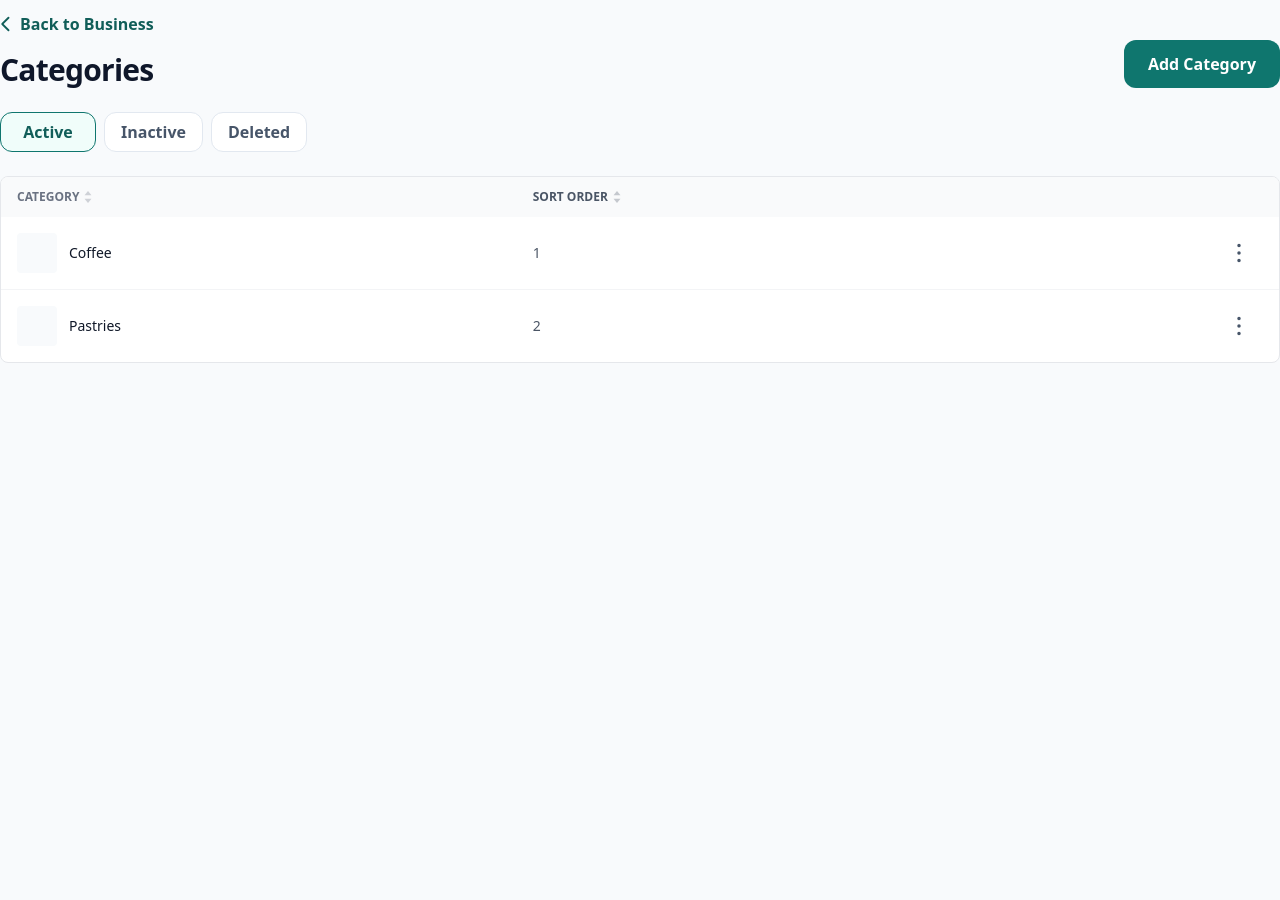
Test: CategoriesPage › will not submit a blank name
Check: the text "Coffee" is shown, box [69, 243, 112, 263]
Click the button "Add Category". click: (1202, 64)
box: [1124, 40, 1279, 88]
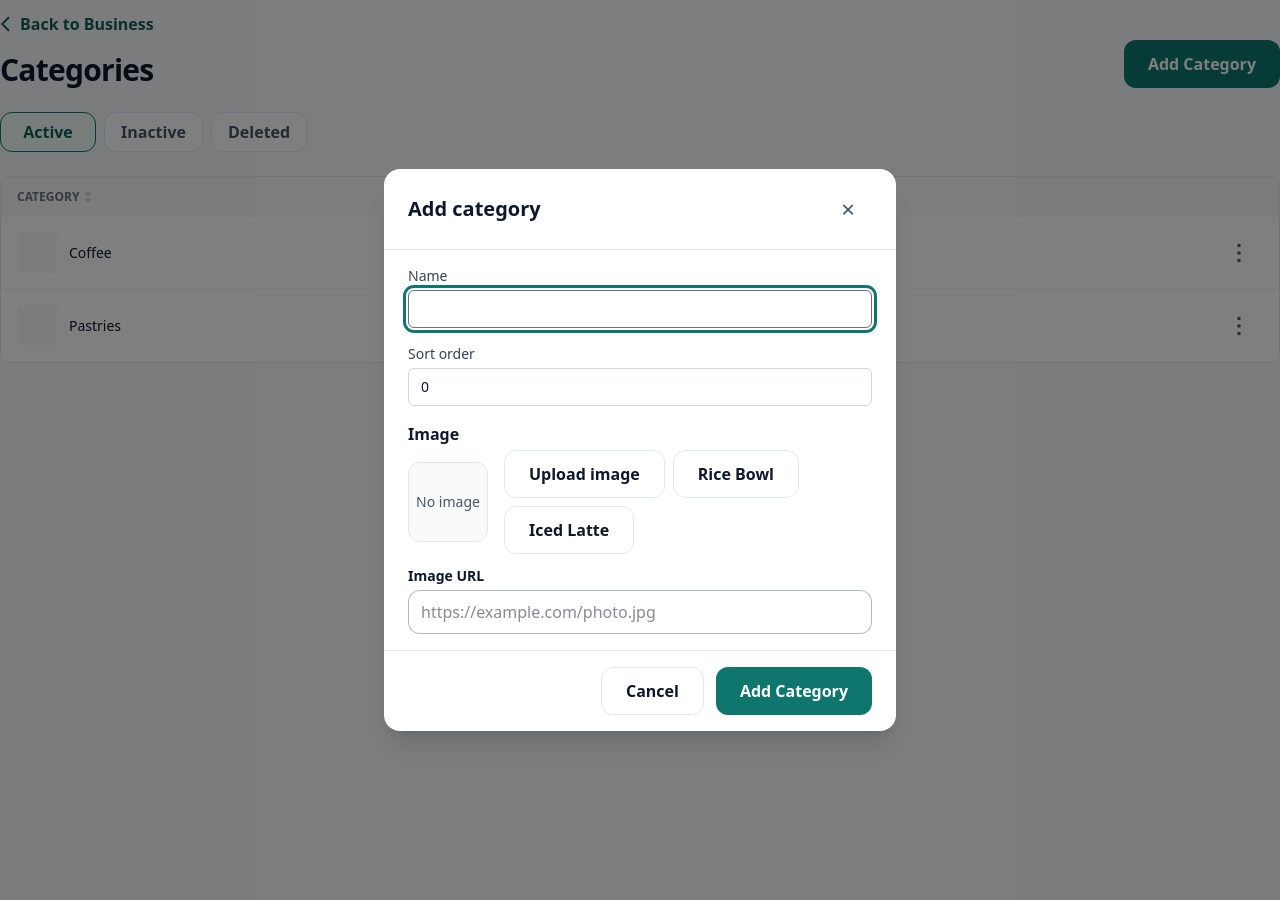
Click the button "Add Category". click: (794, 691)
box: [716, 667, 872, 715]
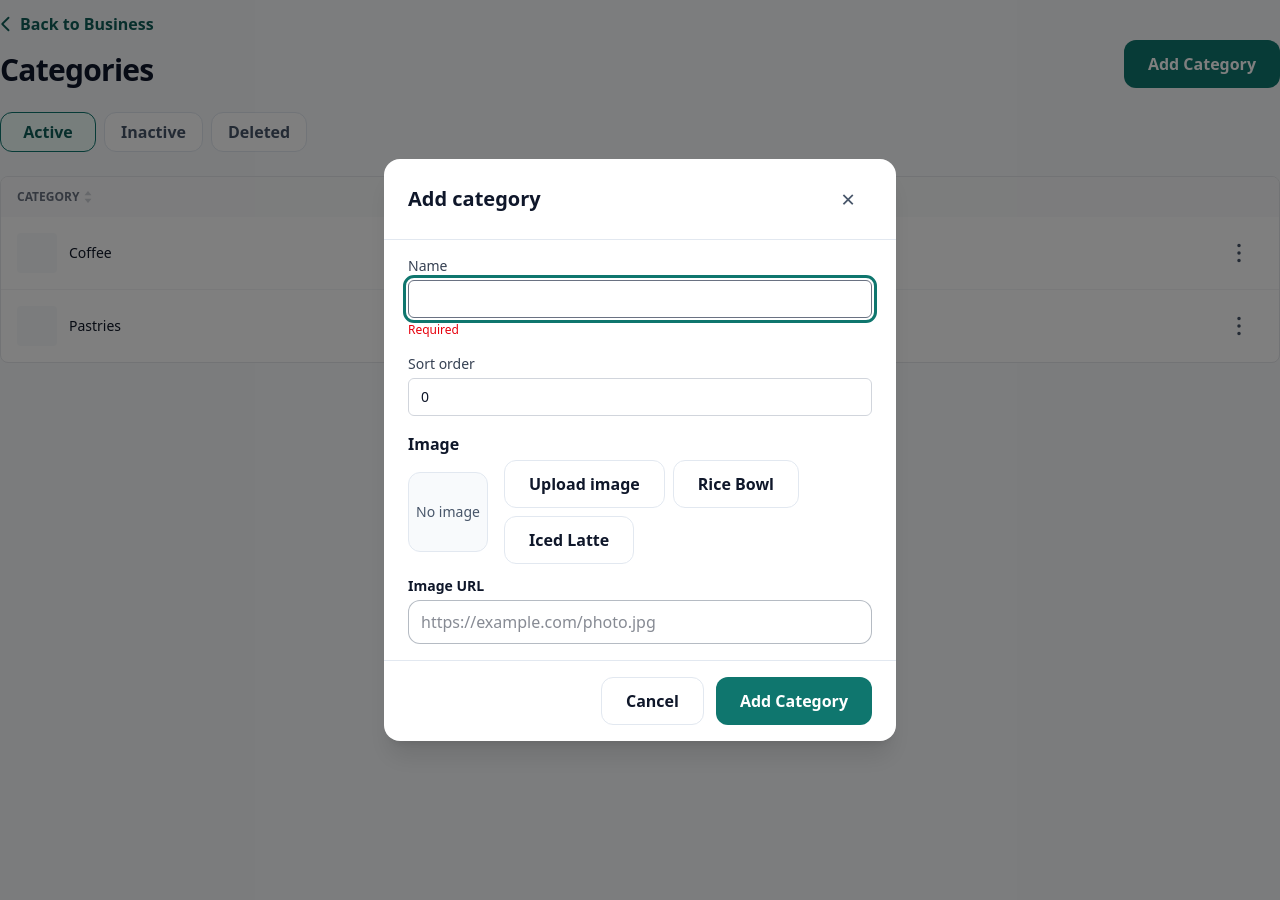
Check: the text "Required" is shown, box [408, 321, 459, 338]
